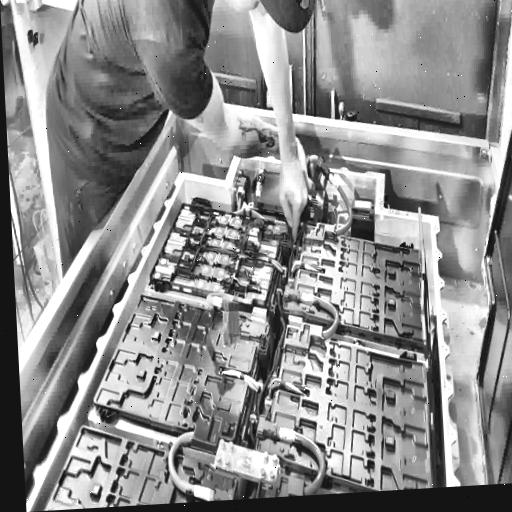high_volt_cable: (275, 422, 337, 497), (164, 429, 216, 504), (296, 288, 341, 347), (326, 172, 354, 237), (204, 288, 245, 317), (232, 189, 261, 221)
low_volt_cable: (236, 226, 304, 447), (218, 367, 308, 400), (243, 249, 325, 278), (202, 239, 237, 259), (195, 214, 214, 247), (227, 259, 242, 288), (186, 247, 202, 274), (237, 222, 251, 249)
nut: (259, 467, 268, 478), (228, 441, 235, 451), (215, 454, 222, 464), (224, 456, 231, 466), (219, 438, 225, 448), (271, 454, 278, 462), (263, 451, 269, 459), (269, 470, 275, 477)
